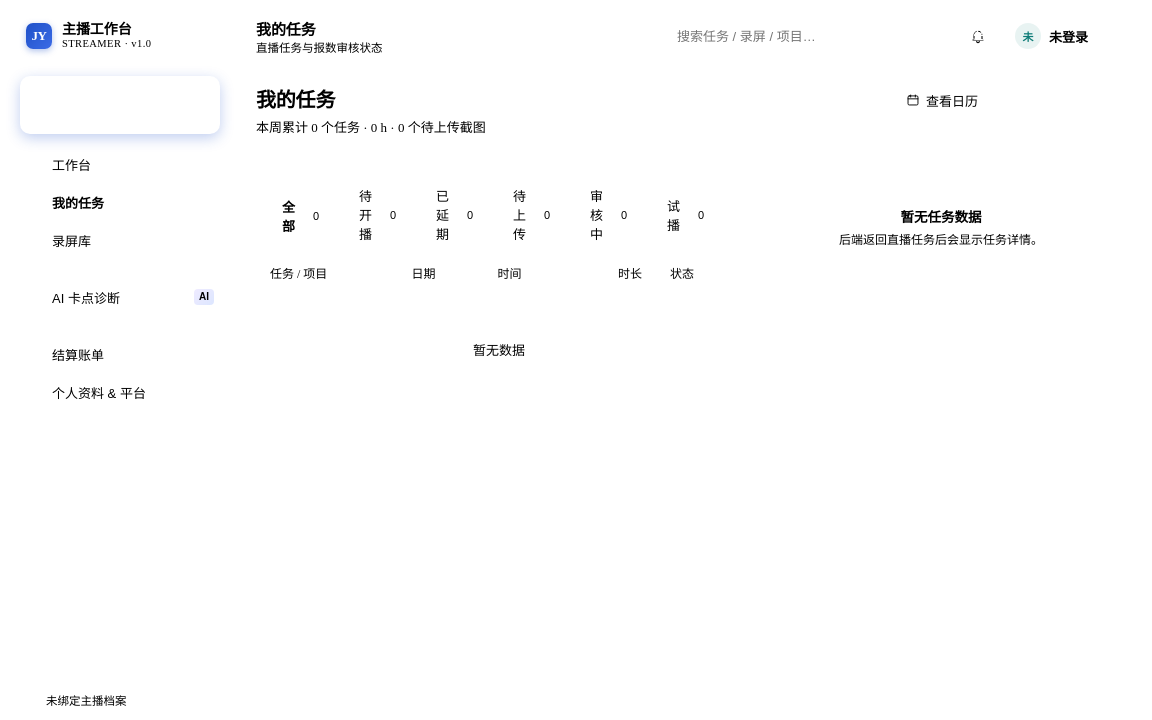
it: StreamerDesktopReferenceApp notifications › uses the notification API unread count and items in the topbar
The image size is (1152, 720).
Click the button "22": (978, 36) [961, 19, 995, 53]
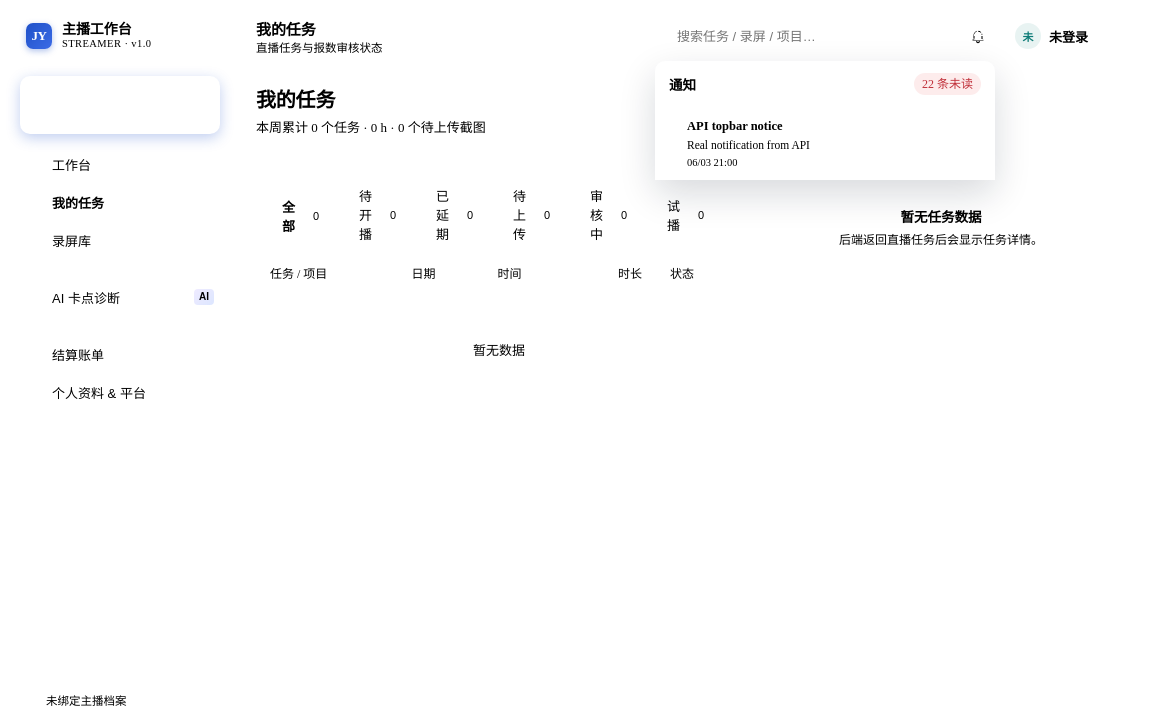
Expected: the text "API topbar notice" is shown, [687, 119, 783, 133]
Expected: the text "Real notification from API" is shown, [687, 139, 810, 151]
